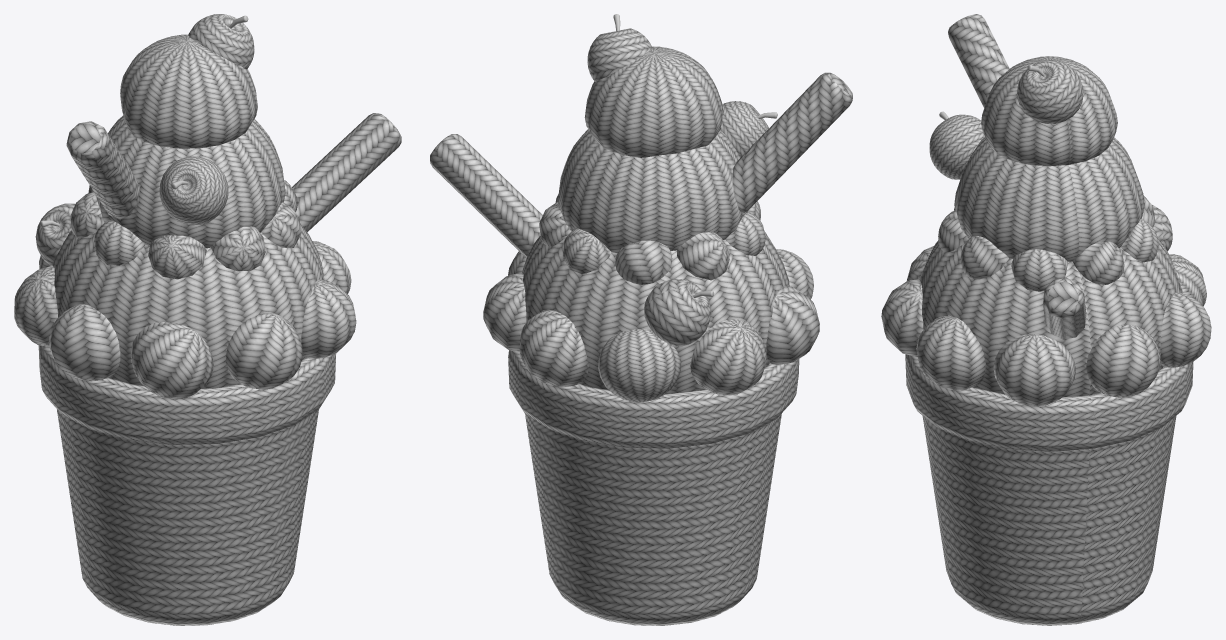
The picture shows the model from 3 angles, left to right: view 1: azimuth 30°, elevation 25°; view 2: azimuth 150°, elevation 25°; view 3: azimuth 270°, elevation 25°; orthographic projection. The views are drawn at different scales.
Visible parts, largest first — view 1: pCylinder14, pSphere1, pSphere40, pSphere2, pCylinder16, pSphere7, pSphere9, pSphere5, pCylinder17, cherry_2, pSphere11, pSphere21 (+8 smaller); view 2: pCylinder14, pSphere2, pSphere1, pSphere40, pCylinder17, pCylinder16, pSphere19, pSphere21, pSphere17, cherry_3, pSphere5, pSphere15 (+8 smaller); view 3: pCylinder14, pSphere2, pSphere1, pSphere40, pSphere13, pSphere15, pSphere11, cherry_1, pCylinder17, pSphere17, cherry_2, pSphere9 (+8 smaller).
Part boxes in pixels (bbox=[...]): pCylinder14: bbox=[38, 345, 336, 625]; pSphere1: bbox=[52, 224, 324, 388]; pSphere40: bbox=[120, 34, 257, 148]; pSphere2: bbox=[96, 115, 285, 248]; pCylinder16: bbox=[292, 113, 401, 232]; pSphere7: bbox=[130, 322, 213, 399]; pSphere9: bbox=[226, 313, 302, 389]; pSphere5: bbox=[49, 304, 120, 381]; pCylinder17: bbox=[66, 121, 139, 219]; cherry_2: bbox=[159, 156, 228, 225]; pSphere11: bbox=[301, 279, 356, 358]; pSphere21: bbox=[14, 265, 57, 346]; pCylinder14: bbox=[508, 350, 799, 625]; pSphere2: bbox=[557, 129, 747, 252]; pSphere1: bbox=[522, 231, 789, 393]; pSphere40: bbox=[584, 46, 723, 157]; pCylinder17: bbox=[732, 72, 852, 212]; pCylinder16: bbox=[430, 134, 542, 257]; pSphere19: bbox=[598, 329, 681, 402]; pSphere21: bbox=[690, 319, 766, 395]; pSphere17: bbox=[519, 309, 588, 386]; cherry_3: bbox=[644, 279, 710, 346]; pSphere5: bbox=[766, 285, 819, 365]; pSphere15: bbox=[483, 273, 526, 352]; pCylinder14: bbox=[905, 354, 1193, 625]; pSphere2: bbox=[954, 137, 1144, 261]; pSphere1: bbox=[920, 236, 1182, 397]; pSphere40: bbox=[981, 56, 1117, 166]; pSphere13: bbox=[993, 334, 1075, 406]; pSphere15: bbox=[1086, 324, 1160, 397]; pSphere11: bbox=[916, 315, 985, 390]; cherry_1: bbox=[1017, 60, 1083, 123]; pCylinder17: bbox=[948, 14, 1009, 107]; pSphere17: bbox=[1160, 292, 1211, 367]; cherry_2: bbox=[929, 114, 984, 179]; pSphere9: bbox=[881, 279, 923, 357].
Bounding box in the file's own units: 396 × 570 × 311.
